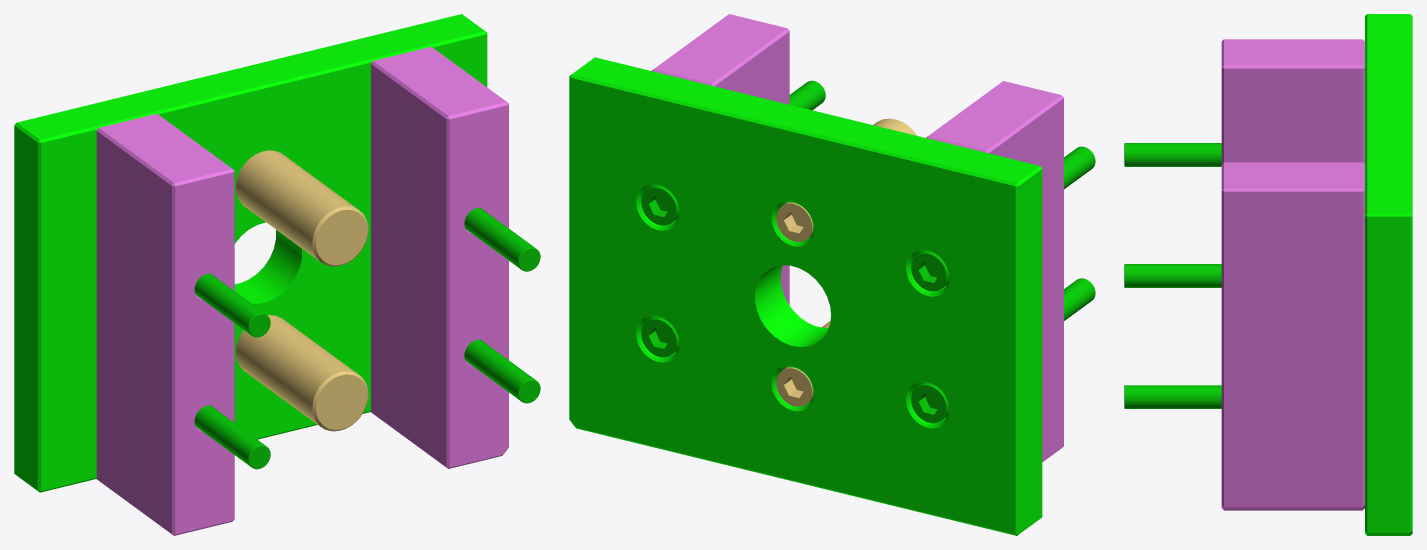
The picture shows the model from 3 angles, left to right: view 1: azimuth 30°, elevation 25°; view 2: azimuth 150°, elevation 25°; view 3: azimuth 270°, elevation 25°; orthographic projection. The views are drawn at different scales.
Visible parts, largest first — view 1: Button_l_plate_031, Button_cl_plate_043, Button_cr_plate_037, Button_support_asy_065 (×2), Button_bcp_screw_044 (×4); view 2: Button_l_plate_031, Button_cl_plate_043, Button_cr_plate_037, Button_bcp_screw_044 (×4), Button_shcs_066 (×2); view 3: Button_cr_plate_037, Button_l_plate_031, Button_cl_plate_043, Button_bcp_screw_044 (×3).
Part boxes in pixels (left/top/right/bottom): Button_l_plate_031: left=14, top=14, right=487, bottom=492; Button_cl_plate_043: left=96, top=113, right=234, bottom=535; Button_cr_plate_037: left=371, top=46, right=508, bottom=468; Button_support_asy_065 (×2): left=235, top=150, right=368, bottom=431; Button_bcp_screw_044 (×4): left=194, top=207, right=540, bottom=469; Button_l_plate_031: left=569, top=57, right=1042, bottom=535; Button_cl_plate_043: left=926, top=81, right=1063, bottom=461; Button_cr_plate_037: left=652, top=14, right=789, bottom=304; Button_bcp_screw_044 (×4): left=641, top=80, right=1095, bottom=423; Button_shcs_066 (×2): left=776, top=202, right=813, bottom=406; Button_cr_plate_037: left=1221, top=162, right=1364, bottom=510; Button_l_plate_031: left=1365, top=14, right=1412, bottom=535; Button_cl_plate_043: left=1221, top=39, right=1364, bottom=163; Button_bcp_screw_044 (×3): left=1124, top=143, right=1221, bottom=408.
Bounding box in the file's own units: 0.2 × 0.15 × 0.1208.
